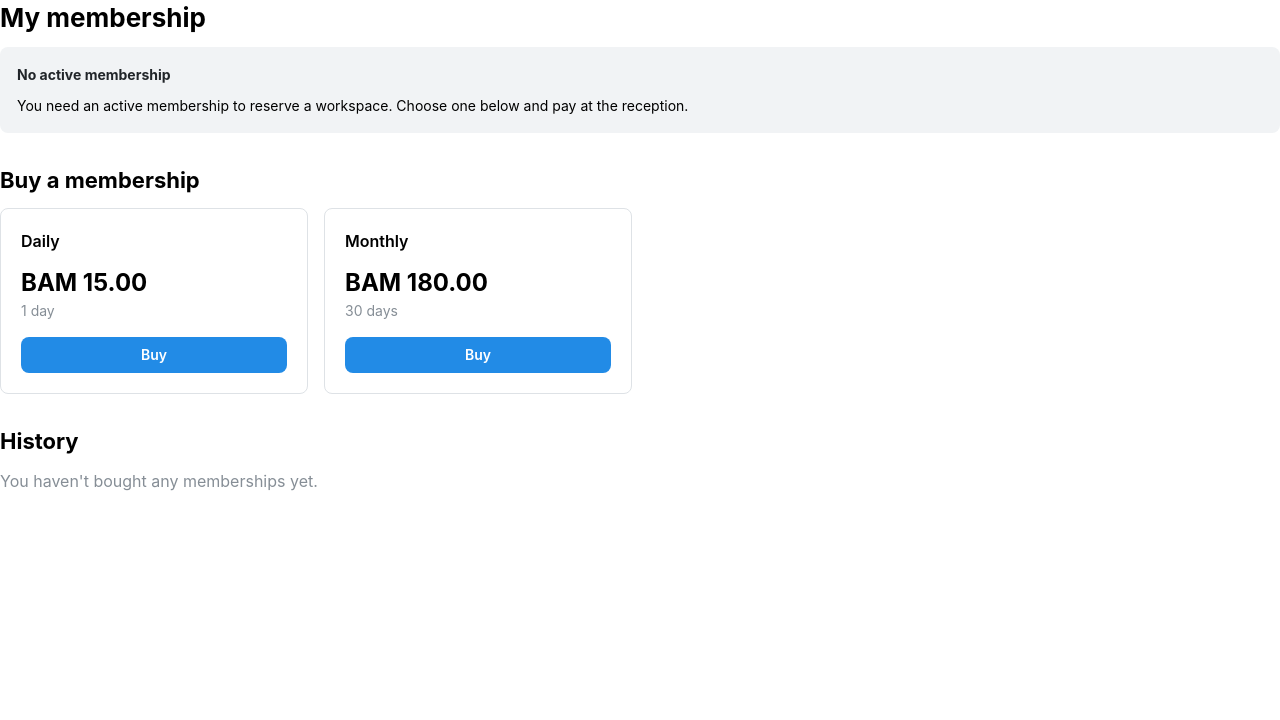
Test: MyMembershipPage › buys after confirmation and reloads the list
The width and height of the screenshot is (1280, 720).
Later steps or results of the test are not shown.
Click the button with aria-label "Buy Monthly". click: [478, 355]
box: [345,337,611,373]
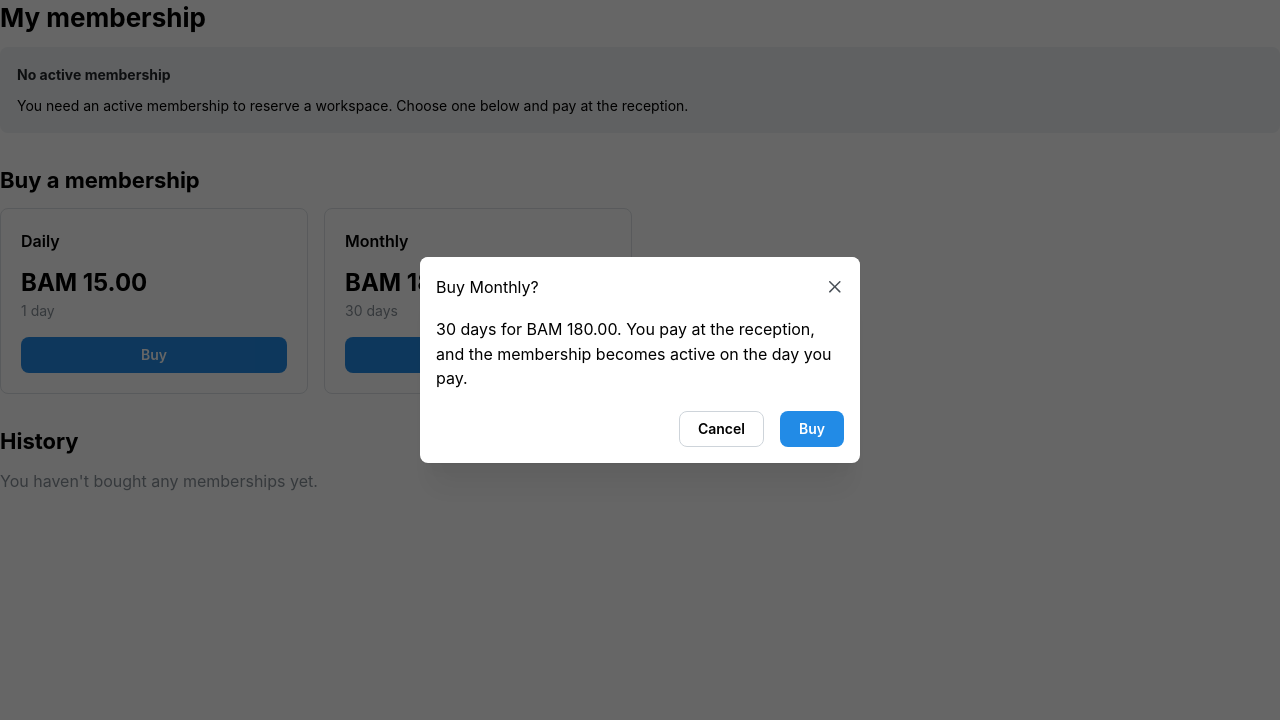
Check: the heading "Buy Monthly?" is shown, box [436,279,539,295]
